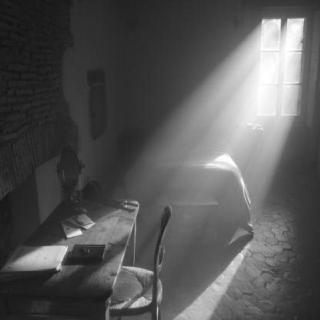other: (253, 22, 281, 120)
